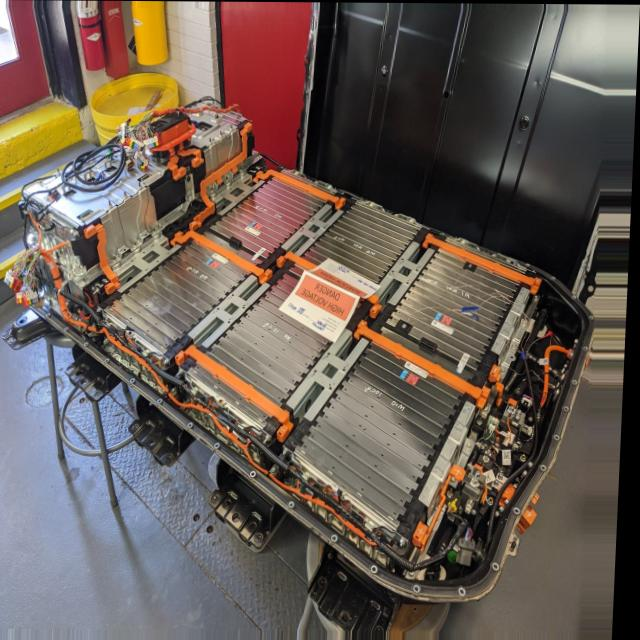Aluminum-frame: (291, 327, 372, 420), (191, 275, 273, 348), (423, 400, 478, 507), (373, 241, 436, 305), (117, 235, 184, 289), (283, 203, 345, 256), (106, 195, 158, 252), (495, 287, 532, 355), (214, 172, 266, 215), (161, 182, 199, 228), (208, 132, 242, 173)
Bolt: (512, 403, 526, 420), (477, 467, 488, 486), (498, 472, 508, 485), (489, 448, 495, 464), (504, 365, 511, 374), (470, 440, 476, 450), (32, 234, 38, 243), (525, 317, 530, 327), (454, 476, 461, 483), (535, 294, 541, 301), (275, 466, 281, 473), (173, 388, 180, 394), (515, 341, 520, 349)
Bus-bar: (358, 319, 495, 407), (177, 345, 298, 439), (424, 232, 544, 292), (280, 251, 385, 314), (192, 122, 253, 230), (172, 231, 275, 284), (419, 464, 471, 550), (257, 170, 347, 209), (86, 223, 123, 293), (492, 364, 508, 402), (178, 148, 205, 168), (169, 153, 188, 180)
Cable: (61, 298, 383, 548), (155, 103, 237, 118)
Nut: (302, 344, 464, 526), (212, 273, 356, 406), (397, 248, 521, 371), (116, 240, 249, 351), (307, 201, 421, 292), (211, 177, 328, 257), (403, 535, 412, 548), (481, 412, 488, 426), (123, 190, 131, 202), (81, 276, 91, 285), (266, 433, 274, 444), (137, 180, 145, 191), (218, 127, 225, 139), (490, 495, 498, 505), (99, 304, 106, 315), (285, 449, 293, 458), (179, 369, 188, 377), (255, 151, 263, 160), (227, 121, 235, 130), (95, 287, 103, 295), (113, 256, 121, 264), (525, 452, 532, 461), (133, 239, 140, 248), (108, 198, 115, 207), (209, 135, 215, 145), (452, 486, 458, 496), (153, 227, 160, 235), (75, 231, 81, 239), (226, 175, 232, 181), (211, 186, 216, 193), (240, 164, 244, 172)
Screw: (186, 172, 193, 182)
